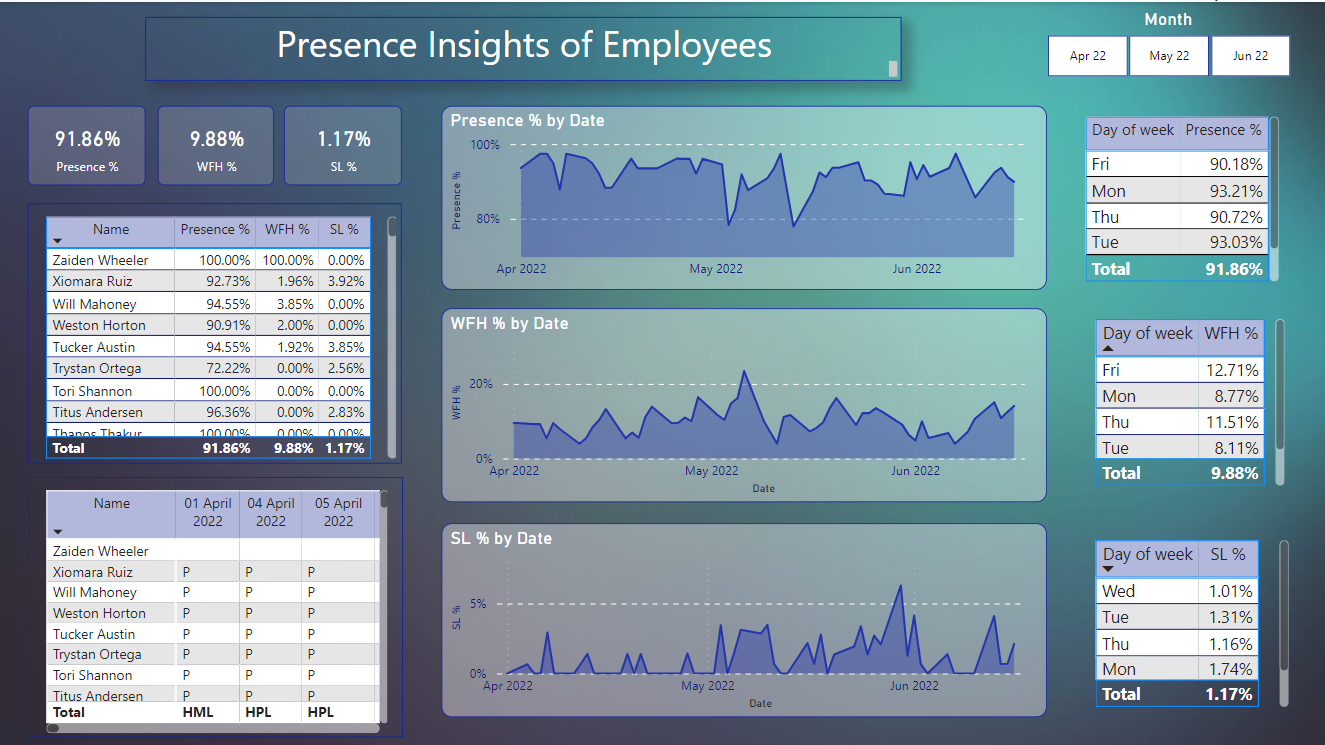

What the dashboard file says about the page in this screenshot:
{"tool":"powerbi","page":{"name":"Page 1","canvas":[1280,720],"ordinal":0},"visuals":[{"type":"card","fields":{"Values":["Measure Table (2).Presence %"]},"box":[27.7,100.1,113.4,77.2],"z":0},{"type":"card","fields":{"Values":["Measure Table (2).WFH %"]},"box":[153.2,100.1,112.2,77.2],"z":1000},{"type":"card","fields":{"Values":["Measure Table (2).SL %"]},"box":[275,100.1,113.4,77.2],"z":2000},{"type":"tableEx","fields":{"Values":["Final Data.Name","Measure Table (2).Presence %","Measure Table (2).WFH %","Measure Table (2).SL %"]},"box":[27.7,194.2,360.6,250.9],"z":3000},{"type":"textbox","title":"Presence Insights of Employees","box":[141.1,14.5,729.6,61.5],"z":4000},{"type":"stackedAreaChart","fields":{"Category":["Final Data.Date"],"Y":["Measure Table (2).Presence %"]},"box":[426.9,100.1,583.7,177.3],"z":5000},{"type":"stackedAreaChart","fields":{"Category":["Final Data.Date"],"Y":["Measure Table (2).WFH %"]},"box":[426.9,295.5,583.7,186.9],"z":6000},{"type":"stackedAreaChart","fields":{"Category":["Final Data.Date"],"Y":["Measure Table (2).SL %"]},"box":[426.9,502.9,583.7,186.9],"z":7000},{"type":"slicer","title":"Month","fields":{"Values":["Final Data.Month"]},"box":[991.4,6,273.8,78.4],"z":8000},{"type":"pivotTable","fields":{"Rows":["Final Data.Name"],"Columns":["Final Data.Date"],"Values":["Final Data.Value"]},"box":[28.9,458.8,360.7,251],"z":9000},{"type":"tableEx","fields":{"Values":["Final Data.Day of week","Measure Table (2).Presence %"]},"box":[1037.2,100.1,207.4,179.7],"z":10000},{"type":"tableEx","fields":{"Values":["Final Data.Day of week","Measure Table (2).WFH %"]},"box":[1037.2,295.5,207.4,180.9],"z":11000},{"type":"tableEx","fields":{"Values":["Final Data.Day of week","Measure Table (2).SL %"]},"box":[1037.2,508.9,217.1,180.9],"z":12000}]}

Visuals, with their boxes in screenshot pixels (x1, y1, x2, y2), scaled from the page's 1280x720 canvas onto the 1325x745 screenshot:
card - Measure Table (2).Presence %: 29/104/146/183
card - Measure Table (2).WFH %: 159/104/275/183
card - Measure Table (2).SL %: 285/104/402/183
tableEx - Final Data.Name x Measure Table (2).Presence %: 29/201/402/461
"Presence Insights of Employees" textbox: 146/15/901/79
stackedAreaChart - Final Data.Date x Measure Table (2).Presence %: 442/104/1046/287
stackedAreaChart - Final Data.Date x Measure Table (2).WFH %: 442/306/1046/499
stackedAreaChart - Final Data.Date x Measure Table (2).SL %: 442/520/1046/714
"Month" slicer: 1026/6/1310/87
pivotTable - Final Data.Name x Final Data.Date: 30/475/403/734
tableEx - Final Data.Day of week x Measure Table (2).Presence %: 1074/104/1288/290
tableEx - Final Data.Day of week x Measure Table (2).WFH %: 1074/306/1288/493
tableEx - Final Data.Day of week x Measure Table (2).SL %: 1074/527/1298/714
